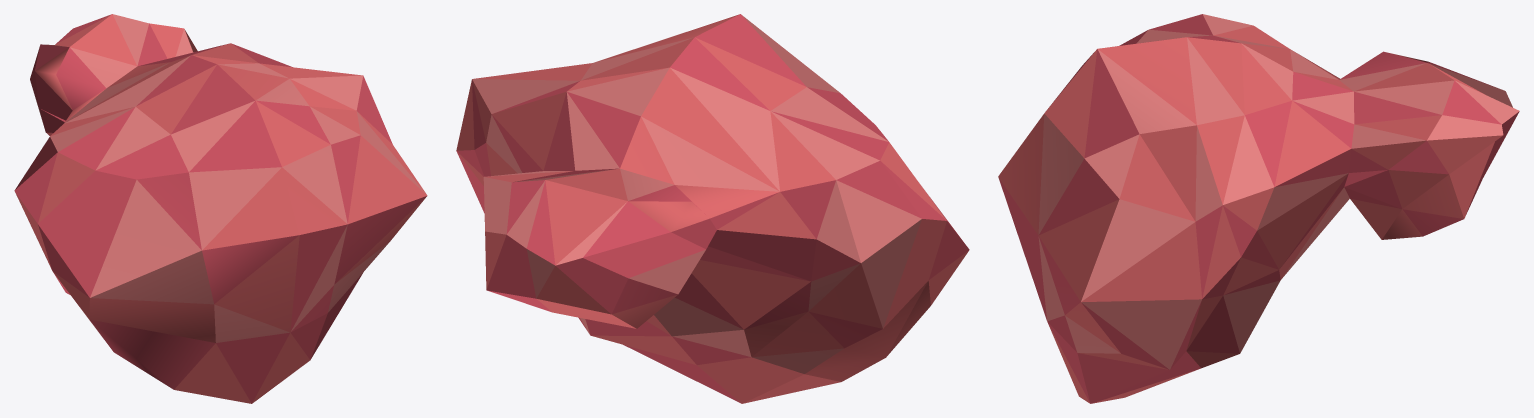
The model's file is Bladder_02(1).fbx.
The picture shows the model from 3 angles, left to right: view 1: azimuth 30°, elevation 25°; view 2: azimuth 150°, elevation 25°; view 3: azimuth 270°, elevation 25°; orthographic projection. The views are drawn at different scales.
Parts seen in each view (by area): view 1: geo_bladder; view 2: geo_bladder; view 3: geo_bladder.
Part boxes in pixels (<box>): geo_bladder: <box>14,14,427,403</box>; geo_bladder: <box>456,14,969,403</box>; geo_bladder: <box>998,14,1519,403</box>.
Bounding box in the file's own units: 138 × 108 × 139.
